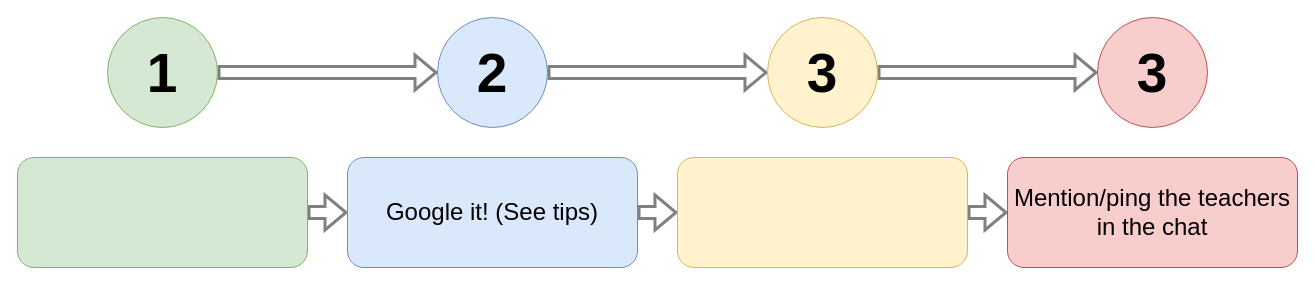
The diagram is 1315 pixels wide and 285 high, and some of its shapes have lost their labels. Here are the shapes that lost their labels. From the top down, the centre of each, then its label:
the point at 162,212: Check course materials (theory and exercises, including previous ones)
the point at 822,212: Ask your question in the chat
